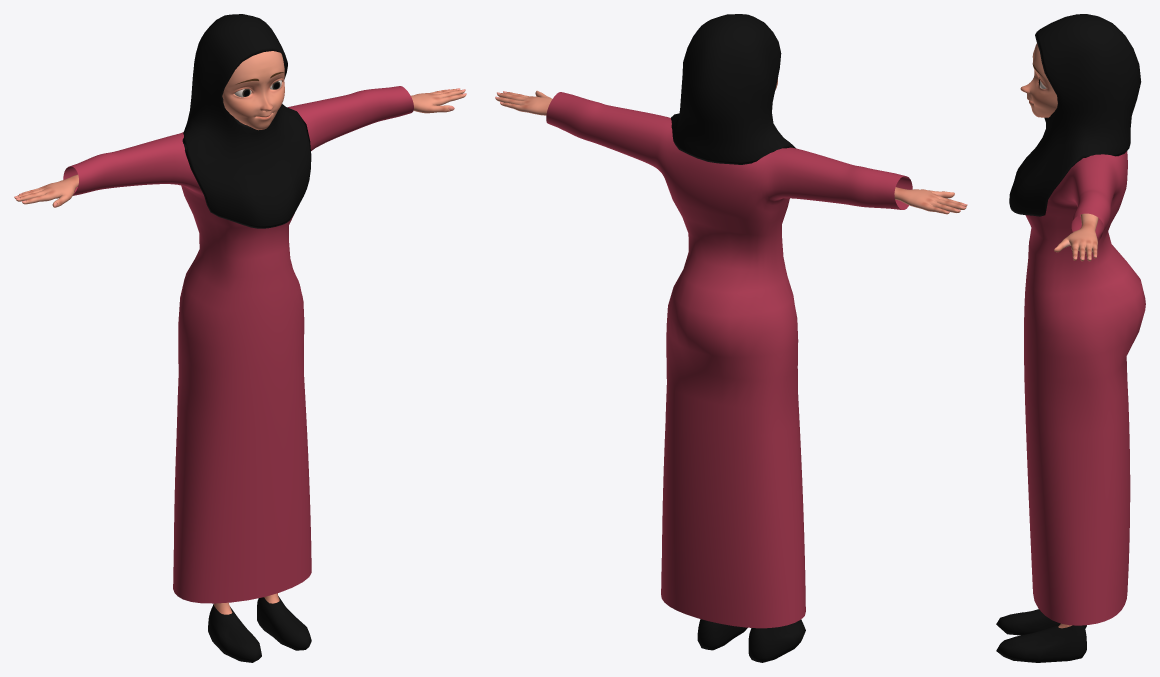
3 renders of one model, left to right at view 1: azimuth 30°, elevation 25°; view 2: azimuth 150°, elevation 25°; view 3: azimuth 270°, elevation 25°, orthographic. The views are drawn at different scales.
Visible parts, largest first — view 1: Box001, Box002, female_5_CC_Base_Body001, Box003; view 2: Box001, Box002, Box003, female_5_CC_Base_Body001; view 3: Box001, Box002, Box003, female_5_CC_Base_Body001.
Boxes of the visible parts, x1=… form: Box001: x1=63, y1=86, x2=413, y2=603; Box002: x1=182, y1=14, x2=311, y2=228; female_5_CC_Base_Body001: x1=14, y1=51, x2=466, y2=614; Box003: x1=208, y1=596, x2=311, y2=662; Box001: x1=546, y1=92, x2=912, y2=628; Box002: x1=671, y1=14, x2=795, y2=164; Box003: x1=697, y1=619, x2=805, y2=662; female_5_CC_Base_Body001: x1=495, y1=79, x2=967, y2=214; Box001: x1=1024, y1=151, x2=1145, y2=625; Box002: x1=1009, y1=14, x2=1141, y2=216; Box003: x1=996, y1=609, x2=1086, y2=662; female_5_CC_Base_Body001: x1=1020, y1=43, x2=1098, y2=628.
Size of the model in its own units: 1.18 by 1.54 by 0.3324.
Materials: 14 (12 with a texture image).
